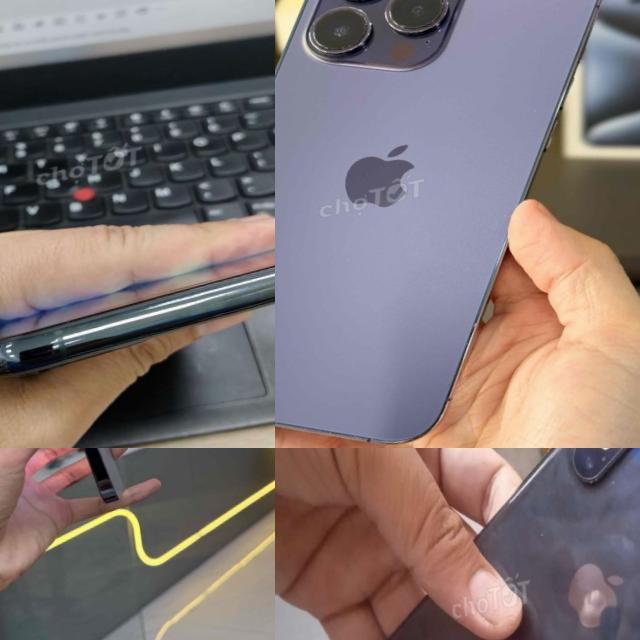gen_11: (0, 224, 275, 390)
gen_12_13: (13, 448, 142, 513)
gen_14: (275, 0, 640, 448)
gen_x_xs: (385, 448, 640, 640)
